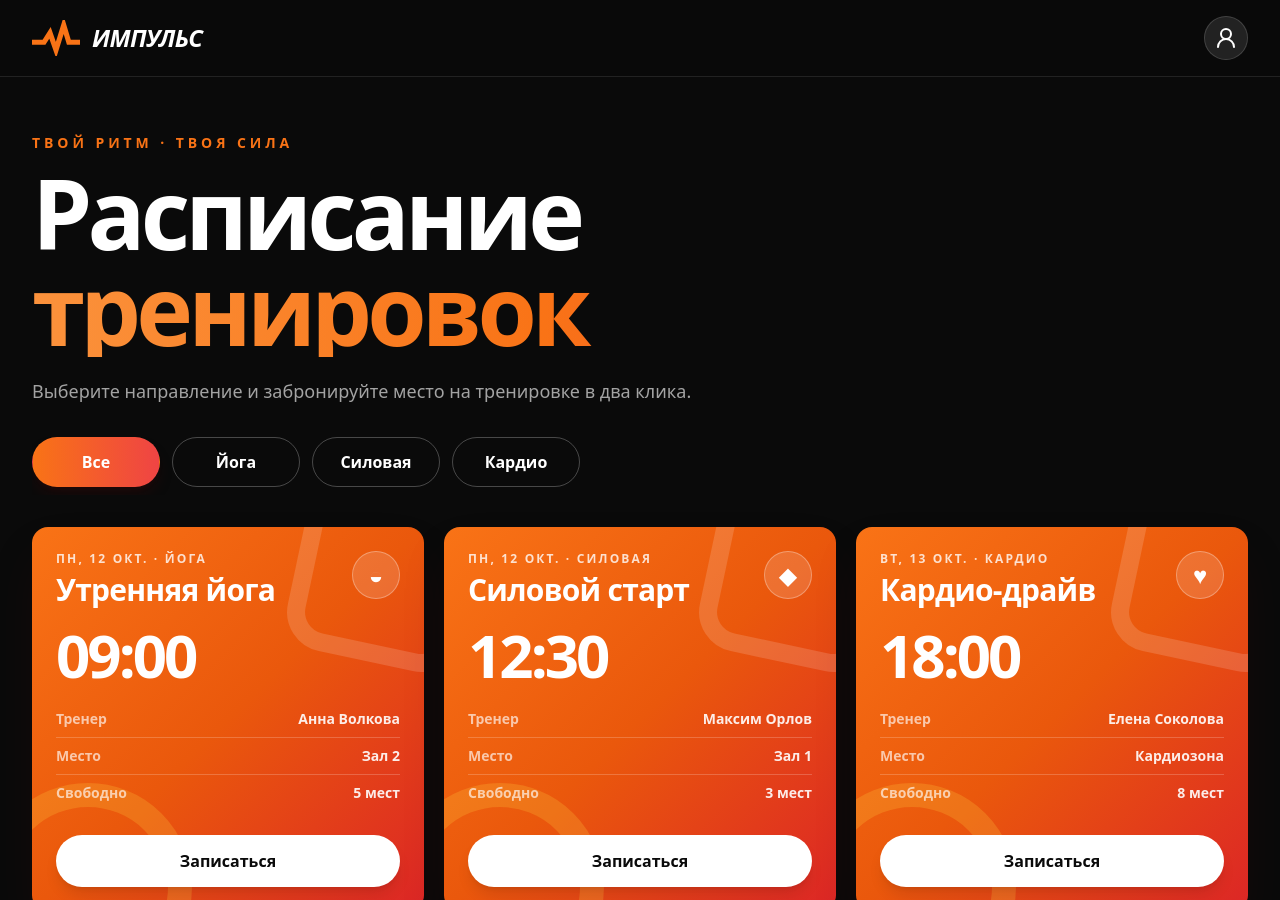
Test: TrainingList filtering › opens the authentication form before booking for a guest
Click the button "Записаться" below "5 мест": (228, 861) [56, 835, 400, 887]
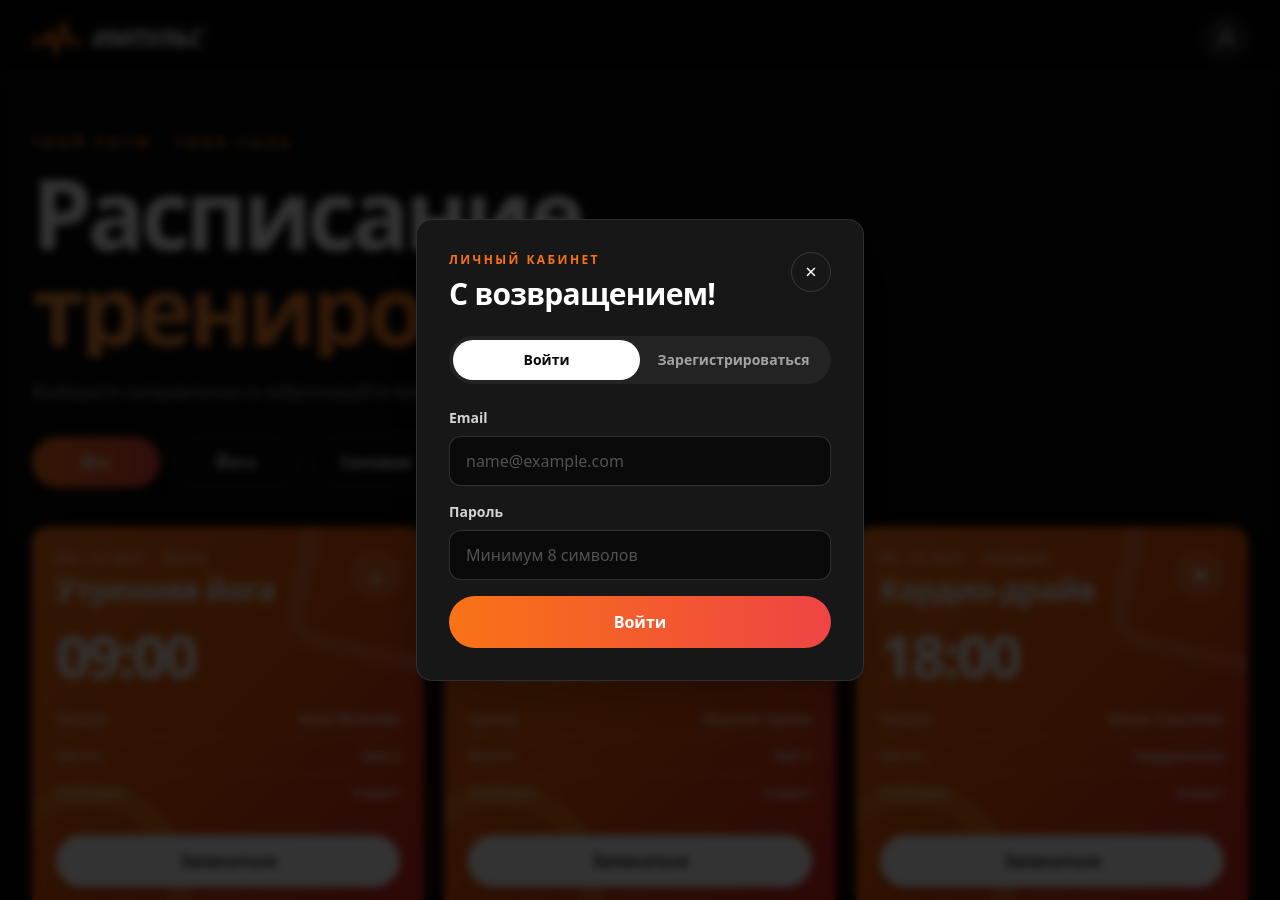
expect the heading "С возвращением!" is shown: met, box [449, 276, 715, 312]
